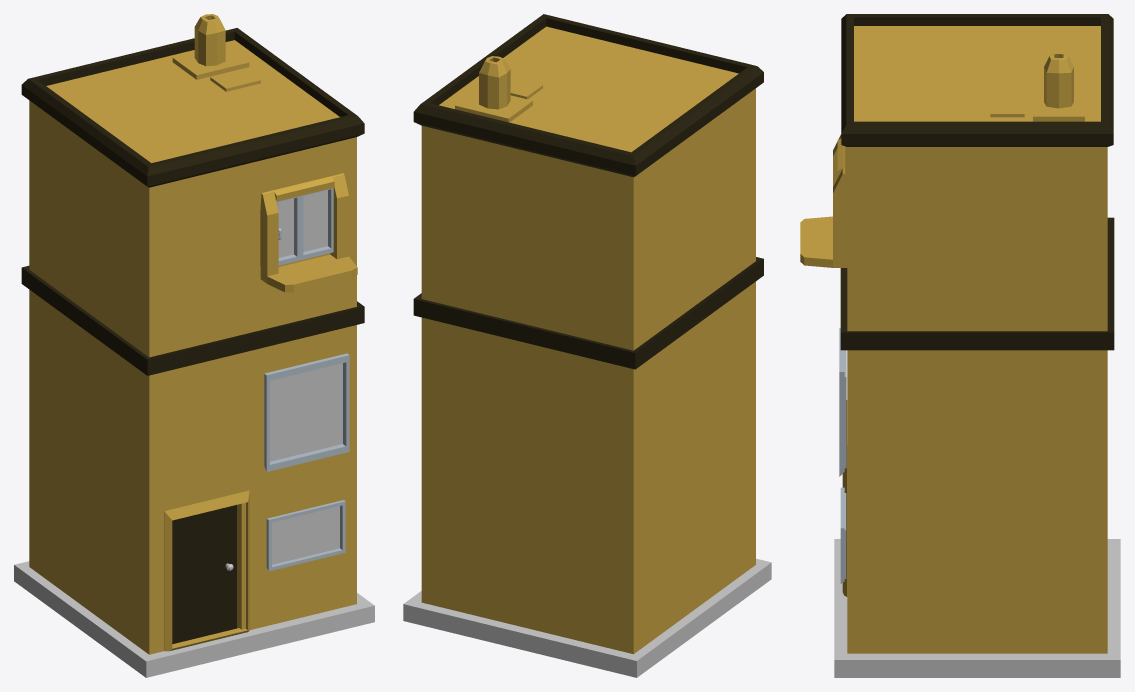
The model's file is building_lg.obj.
The picture shows the model from 3 angles, left to right: view 1: azimuth 30°, elevation 25°; view 2: azimuth 150°, elevation 25°; view 3: azimuth 270°, elevation 25°; orthographic projection. The views are drawn at different scales.
Parts seen in each view (by area): view 1: Building_lg; view 2: Building_lg; view 3: Building_lg.
Part boxes in pixels (x1,y1,x2,y2): Building_lg: (14,14,374,677); Building_lg: (403,14,771,677); Building_lg: (800,14,1120,677).
Bounding box in the file's own units: 2.2 × 5 × 2.46.
